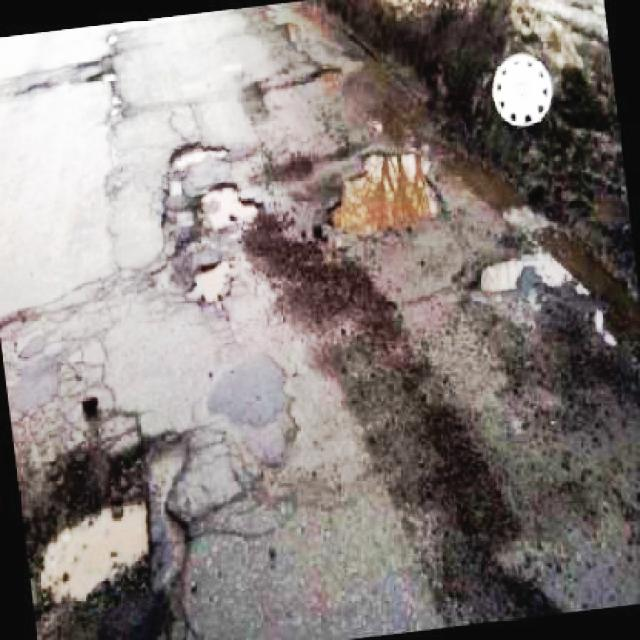pothole: (20, 421, 189, 640), (326, 140, 452, 235), (472, 250, 577, 296), (191, 183, 266, 235), (165, 142, 229, 202), (182, 256, 229, 306), (76, 56, 121, 90)
